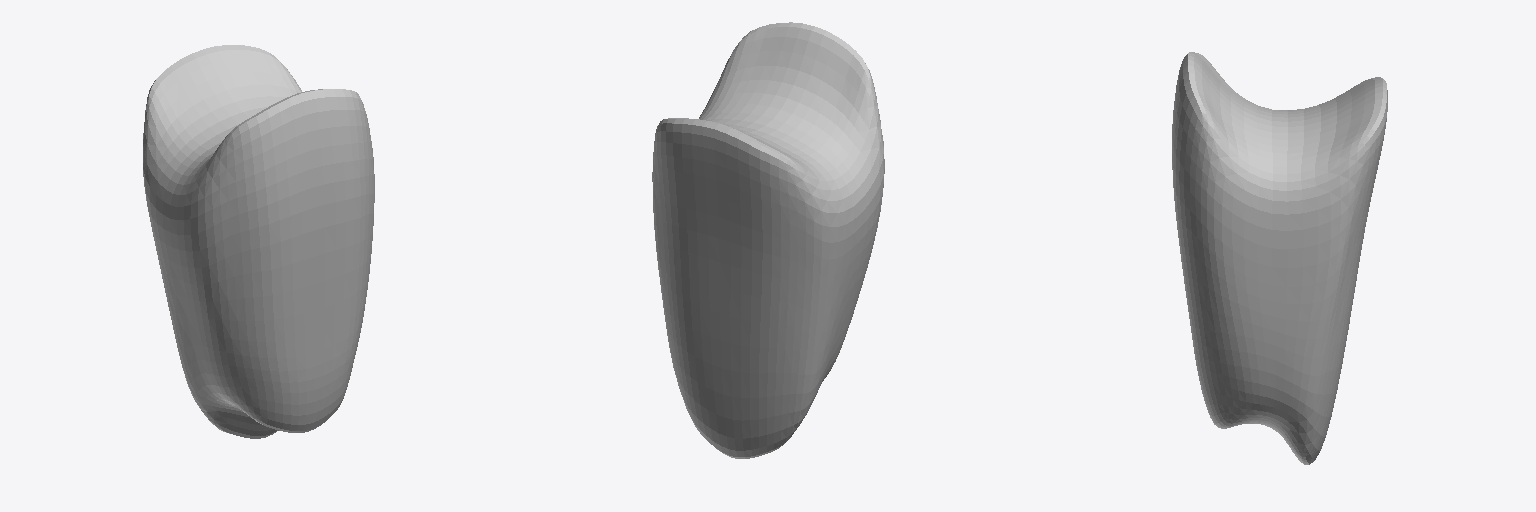
Rendered from m_luleg.obj.
3 views of the same model, side by side, from view 1: azimuth 30°, elevation 25°; view 2: azimuth 150°, elevation 25°; view 3: azimuth 270°, elevation 25° (orthographic).
Parts seen in each view (by area): view 1: pCube8; view 2: pCube8; view 3: pCube8.
Boxes of the visible parts, <box> form: pCube8: <box>143,45,374,438</box>; pCube8: <box>652,22,884,458</box>; pCube8: <box>1172,52,1387,464</box>.
Size of the model in its own units: 0.7586 by 1.58 by 0.7857.